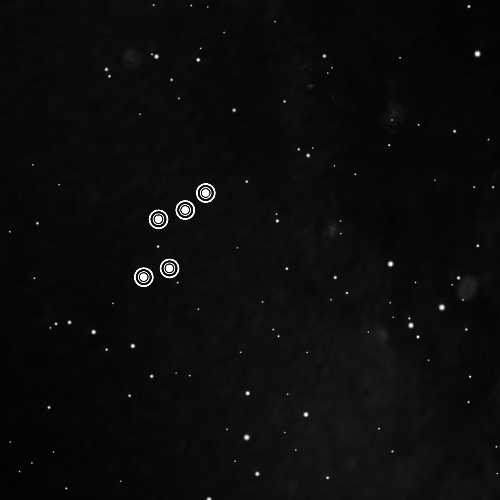lyra: (123, 169, 225, 299)
